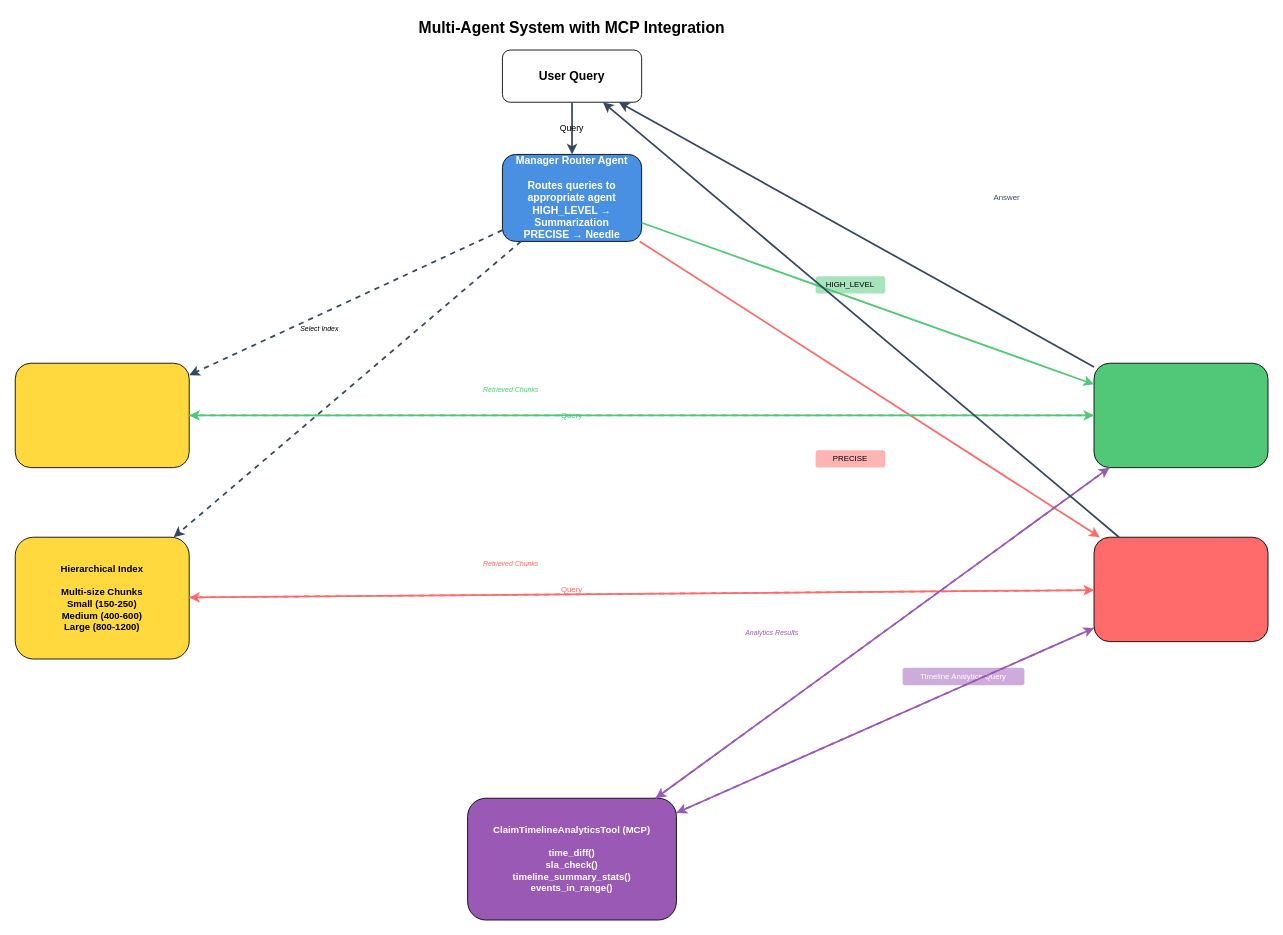
Some shapes in this 1283 by 935 pixel diagram are drawn without their labels. Here are the shapes that lost their labels. From the top down, the centre of each, then its label:
At (101,415): "Summary Index Large Chunks (800-1200 tokens) Tree Summarize".
At (1180,415): "Summarization Expert Agent High-level questions Timelines & Overviews".
At (1180,589): "Needle-in-a-Haystack Agent Precise factual queries Exact details & dates".
